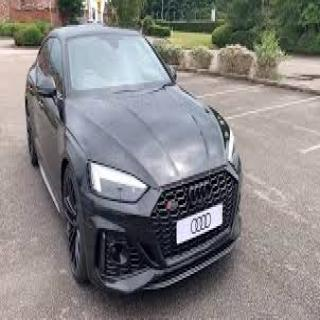Normal_vehicle: (24, 22, 247, 292)
